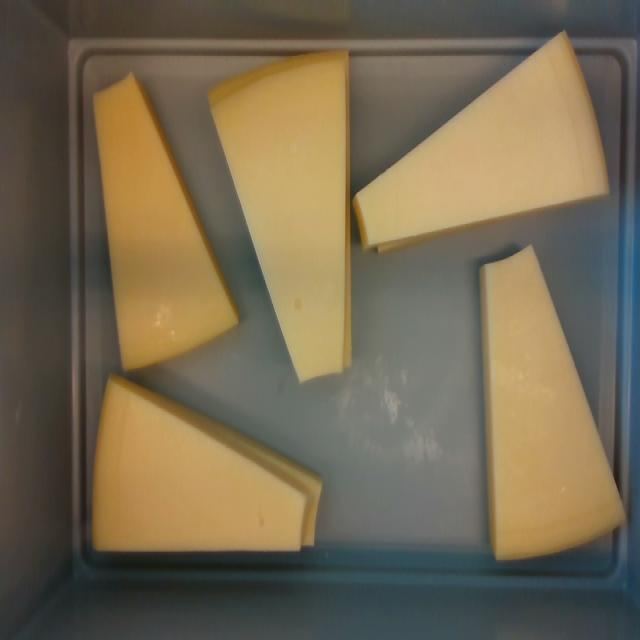cheese: (355, 32, 608, 245), (485, 247, 627, 559), (211, 61, 346, 384), (91, 73, 238, 368), (93, 376, 307, 551)
